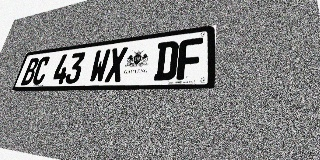3: (64, 52, 86, 84)
4: (51, 53, 72, 84)
B: (20, 57, 40, 85)
C: (31, 56, 51, 85)
D: (153, 40, 179, 81)
F: (176, 37, 203, 80)
W: (88, 49, 111, 83)
X: (104, 47, 128, 82)
